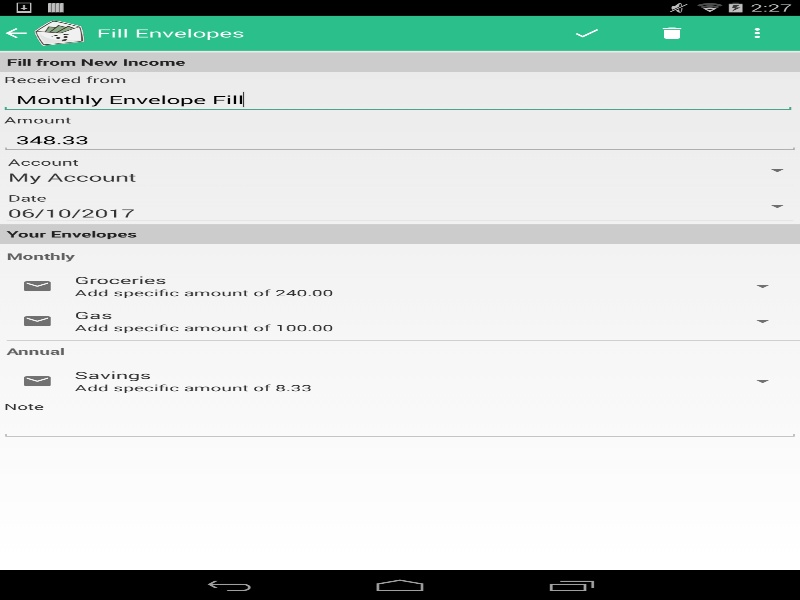Button: (714, 15, 800, 50)
Input: (0, 127, 800, 152), (0, 414, 800, 439), (0, 87, 796, 112)
